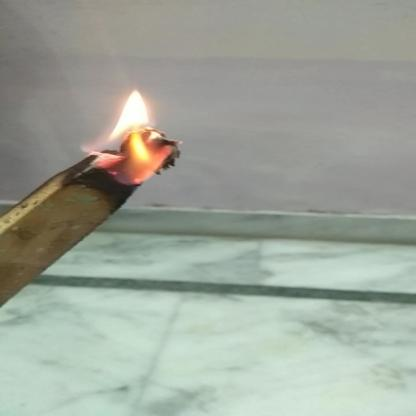fire: (92, 86, 186, 186)
